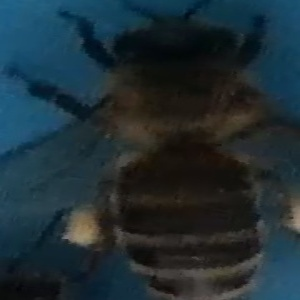bee: (12, 4, 292, 298)
